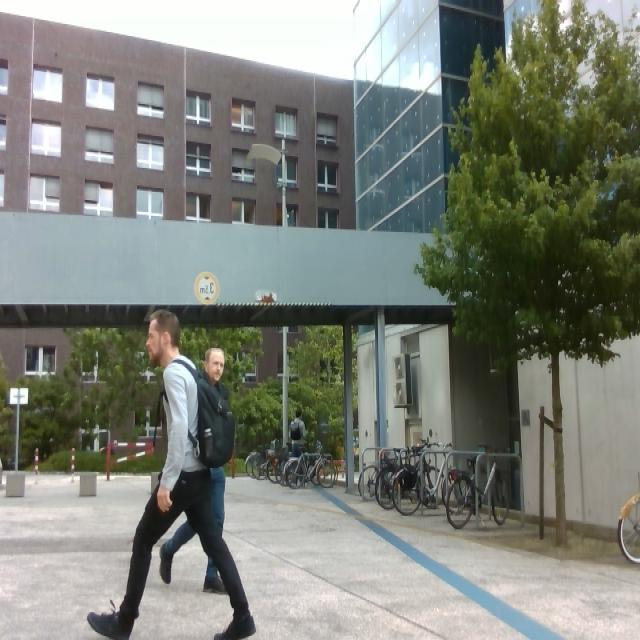face: (145, 310, 183, 370), (203, 347, 226, 384)
